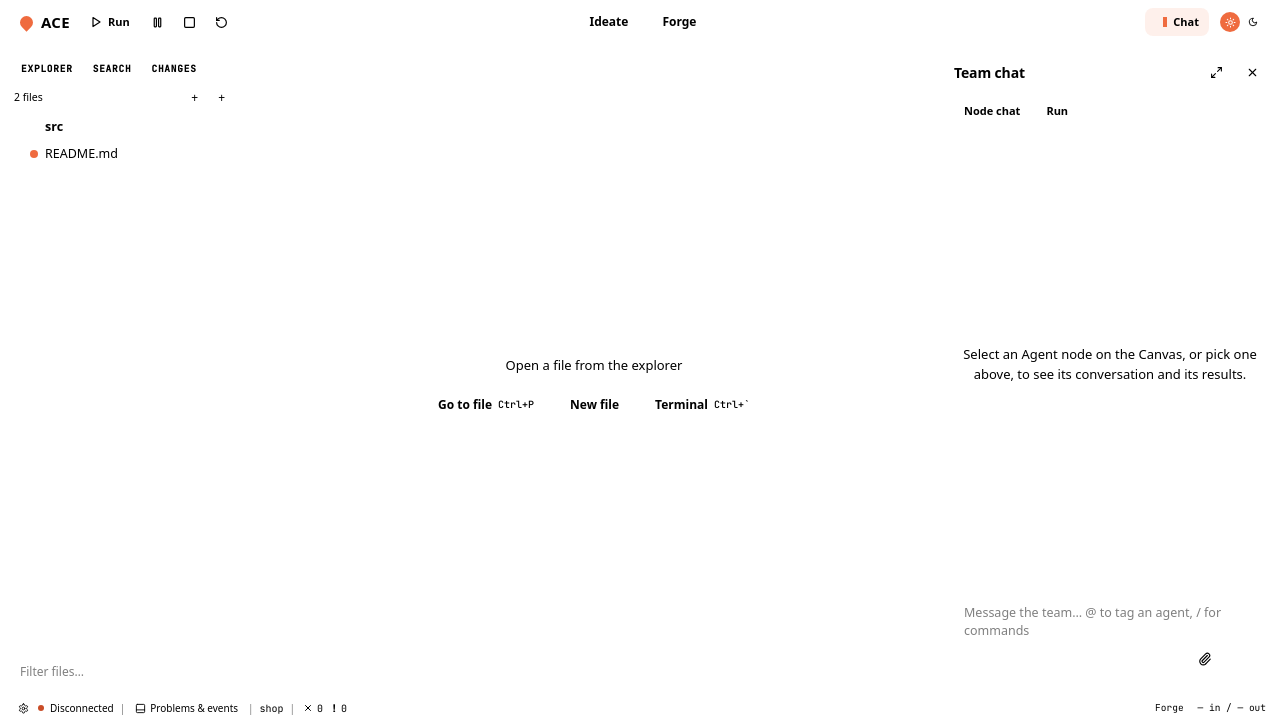
D334 FR-GIT-003 Forge in the theme’s code view › D301 the empty editor offers the Terminal as a third pill with its key, and focuses it
Expected: the element with test id "forge" is shown, [10, 58, 764, 686]
Click the button "Terminal Ctrl+`" at point(703, 405), box [641, 390, 764, 420]
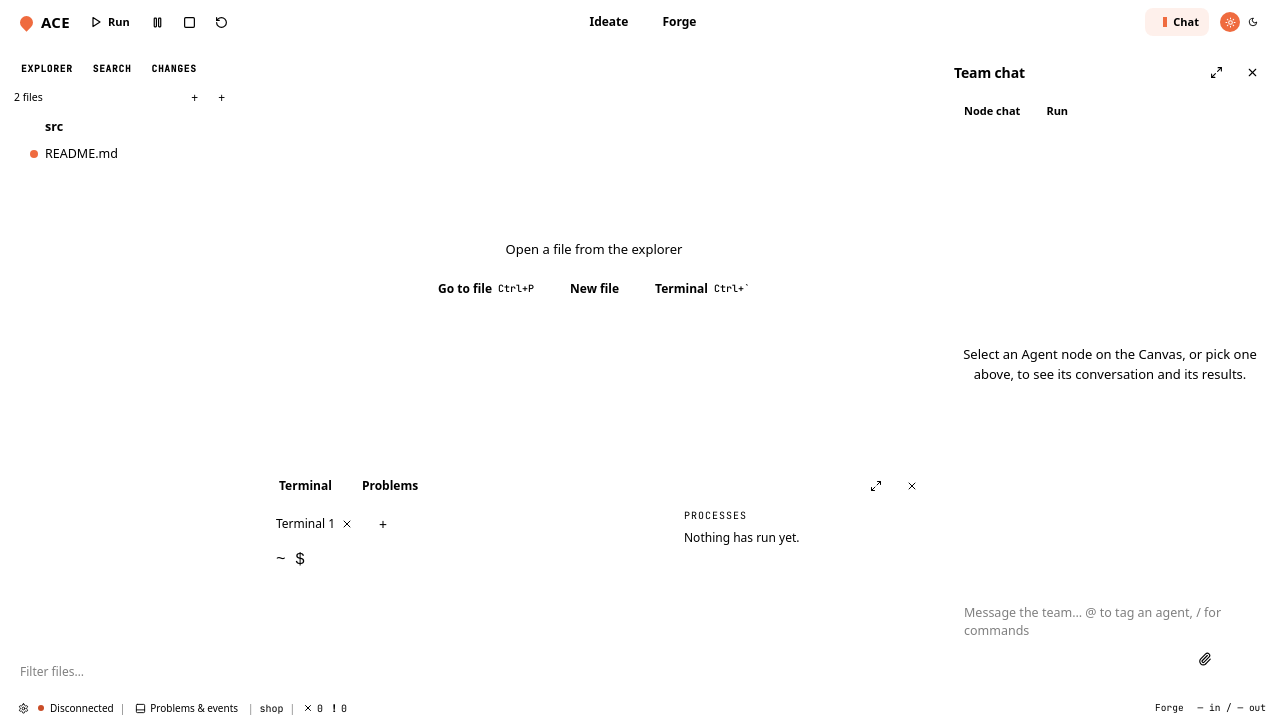
Expected: the element with test id "terminal-panel" is shown, [264, 508, 800, 569]
